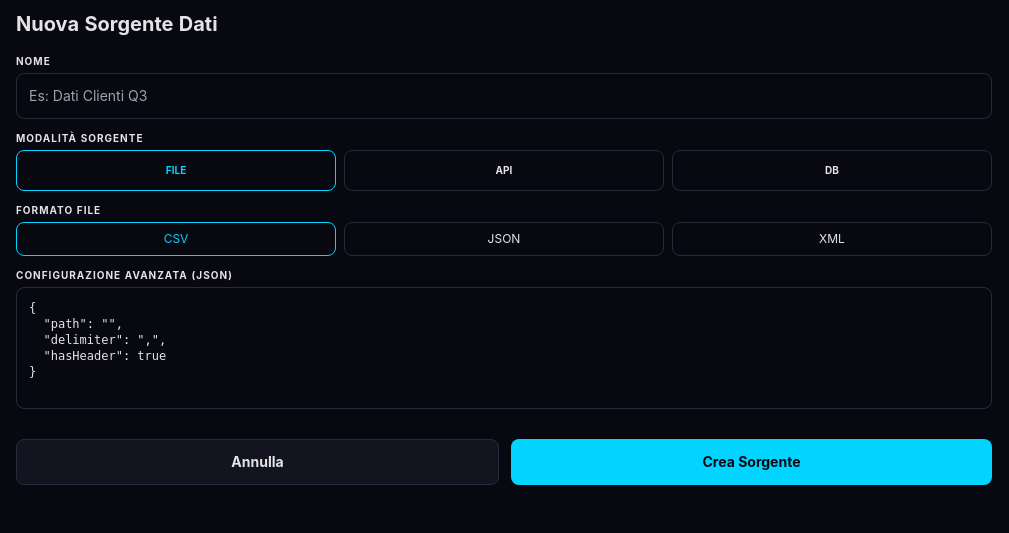
Test: DataSourceForm › shows configJson error for empty DB connection string
Click the button "DB" at (832, 170), box top-left (672, 150), bottom-right (992, 191)
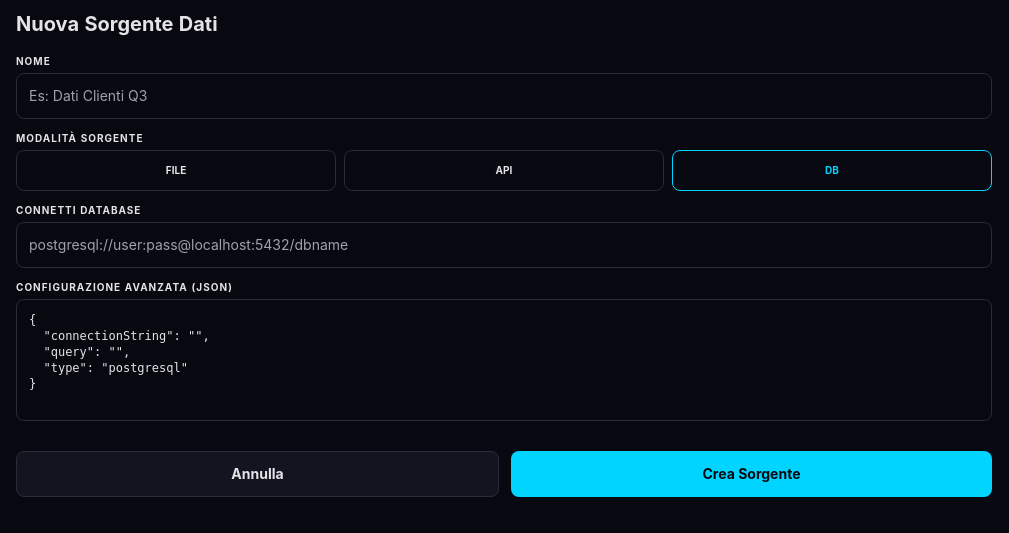
Click the button "Crea Sorgente" at (752, 474), box top-left (511, 451), bottom-right (992, 497)
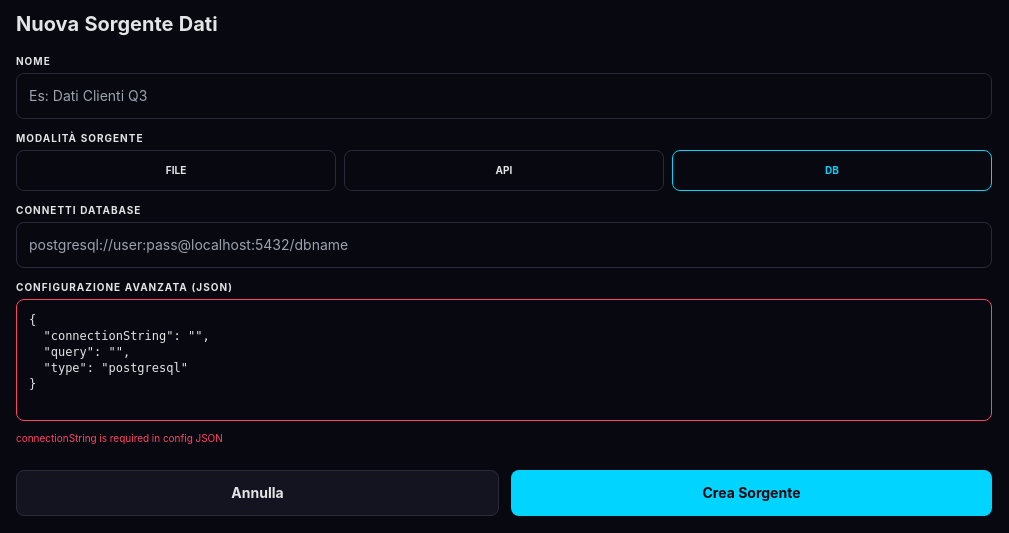
Expected: the text "connectionString is required in config JSON" is shown, top-left (16, 432), bottom-right (223, 444)
